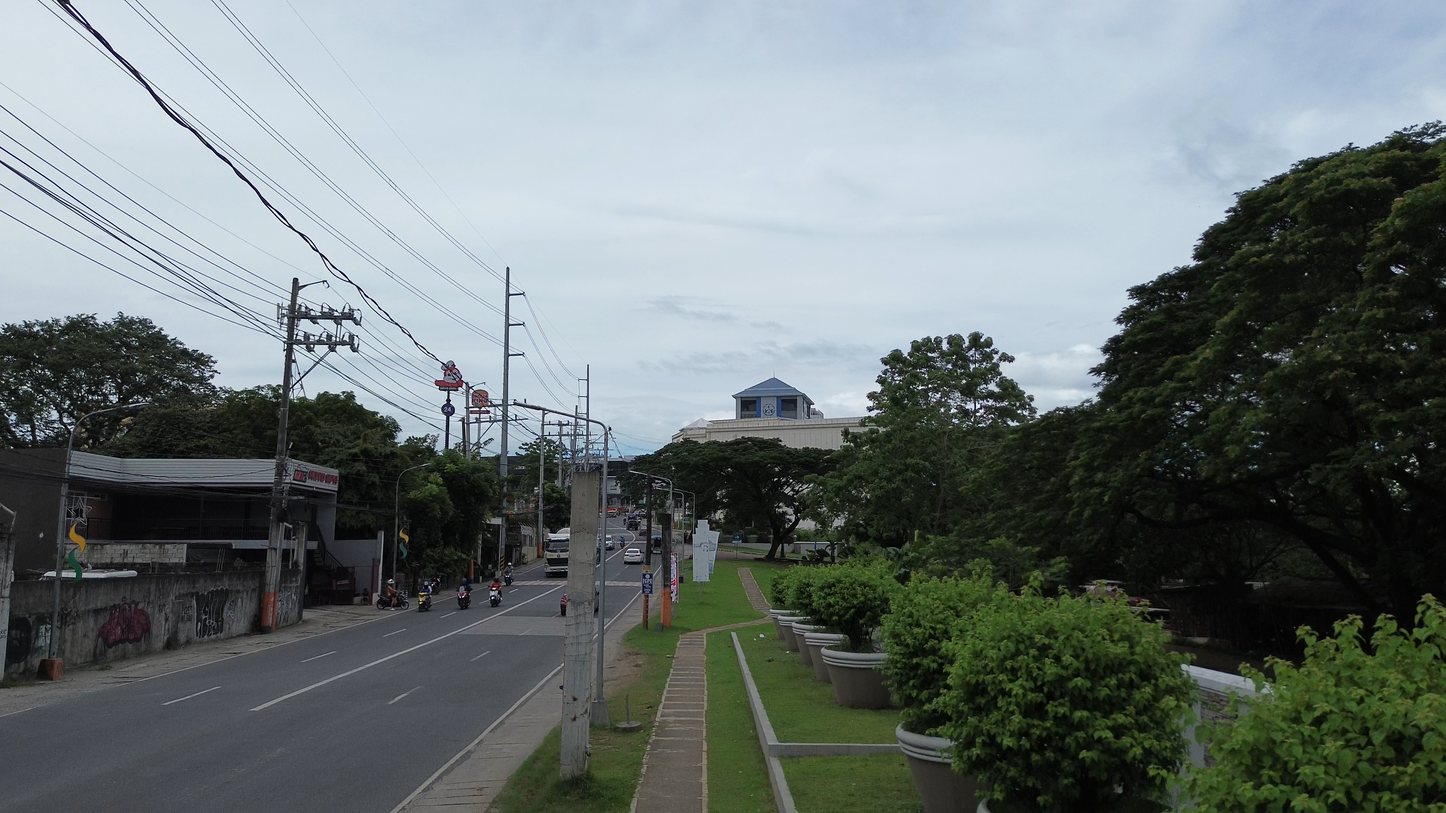car: (624, 547, 643, 564)
motorcycle: (375, 592, 408, 609), (418, 592, 432, 612), (489, 588, 501, 607), (560, 594, 567, 616), (503, 572, 513, 586)
vehicle: (545, 528, 569, 577), (375, 591, 408, 609), (418, 589, 432, 611), (456, 587, 470, 609), (650, 534, 662, 554), (625, 519, 639, 531), (604, 535, 614, 551)
